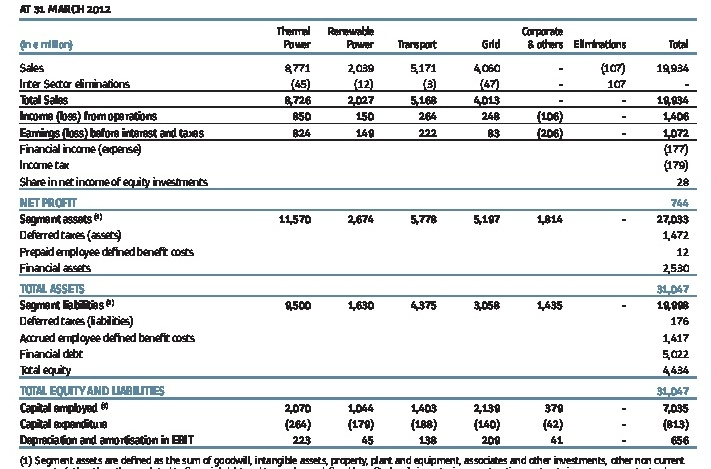table: (0, 0, 711, 469)
